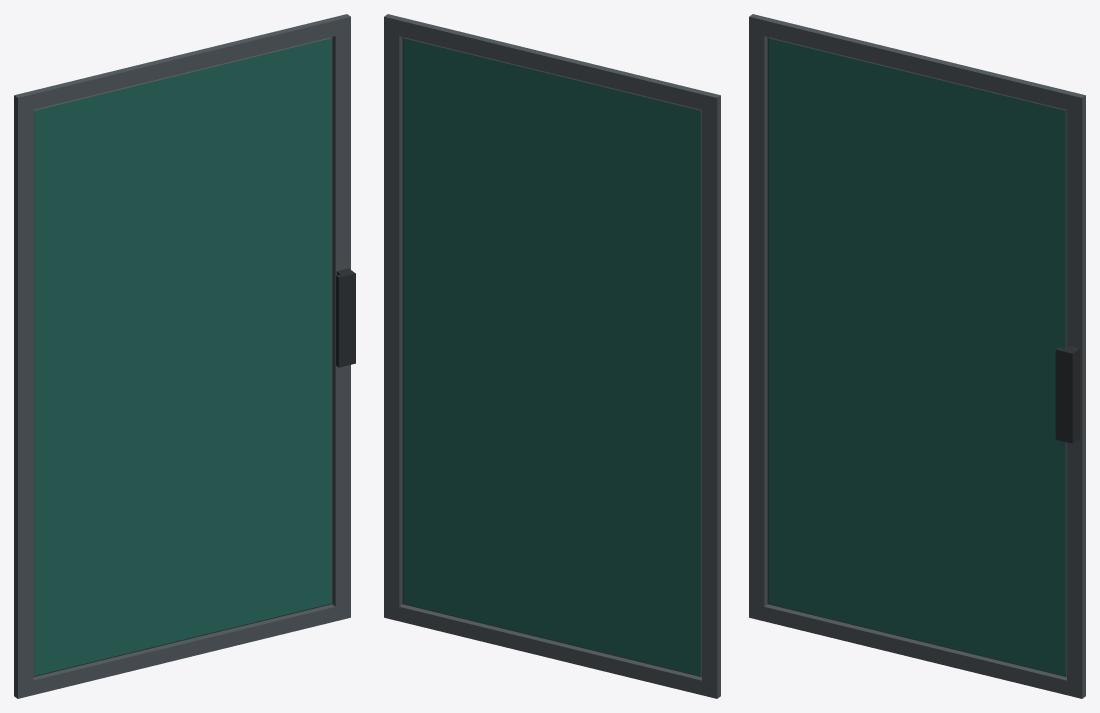
The model's file is SM_windowed_door.fbx.
The picture shows the model from 3 angles, left to right: view 1: azimuth 30°, elevation 25°; view 2: azimuth 150°, elevation 25°; view 3: azimuth 330°, elevation 25°; orthographic projection.
Parts seen in each view (by area): view 1: windowed_door; view 2: windowed_door; view 3: windowed_door.
Boxes of the visible parts, bbox=[...] form: windowed_door: bbox=[14, 14, 355, 698]; windowed_door: bbox=[384, 14, 720, 698]; windowed_door: bbox=[749, 14, 1085, 698].
Size of the model in its own units: 121 by 209 by 6.91.
